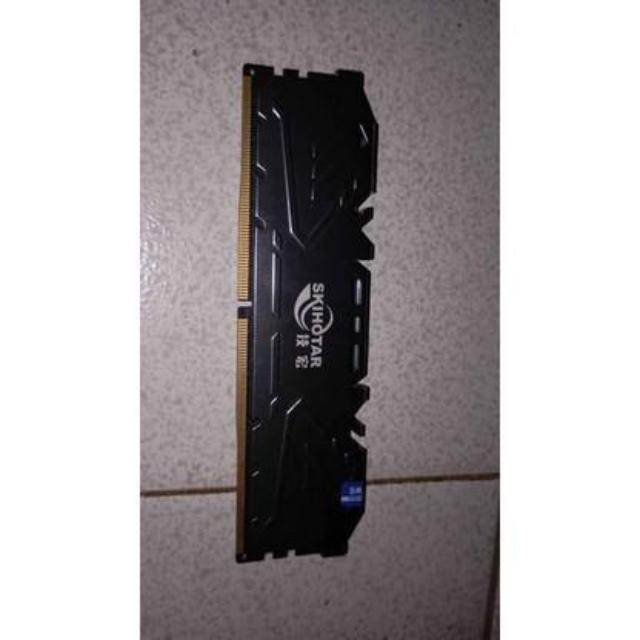RAM: (231, 60, 374, 566)
